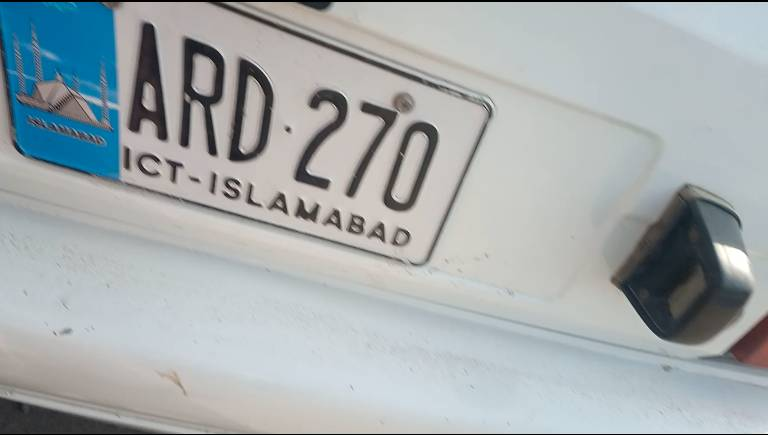number_plate: (4, 4, 482, 277)
